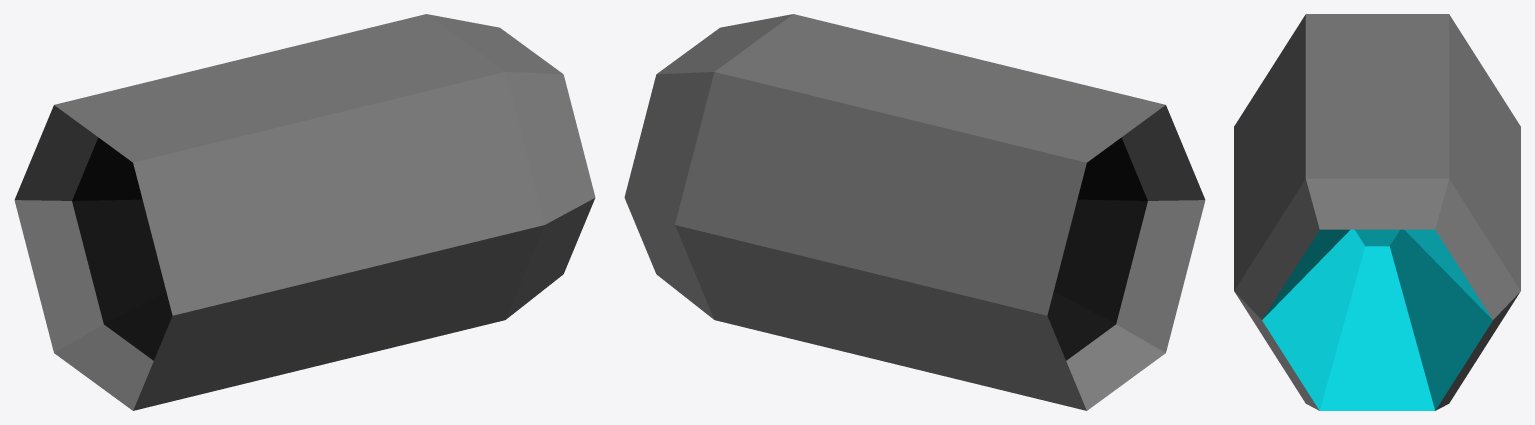
Rendered from Thruster Short.fbx.
The picture shows the model from 3 angles, left to right: view 1: azimuth 30°, elevation 25°; view 2: azimuth 150°, elevation 25°; view 3: azimuth 270°, elevation 25°; orthographic projection. The views are drawn at different scales.
Parts seen in each view (by area): view 1: LargeTurbine; view 2: LargeTurbine; view 3: LargeTurbine.
Boxes of the visible parts, x1,y1,x2,y2 form: LargeTurbine: [14, 14, 595, 410]; LargeTurbine: [624, 14, 1205, 410]; LargeTurbine: [1234, 14, 1520, 410].
Size of the model in its own units: 320 by 173 by 200.
